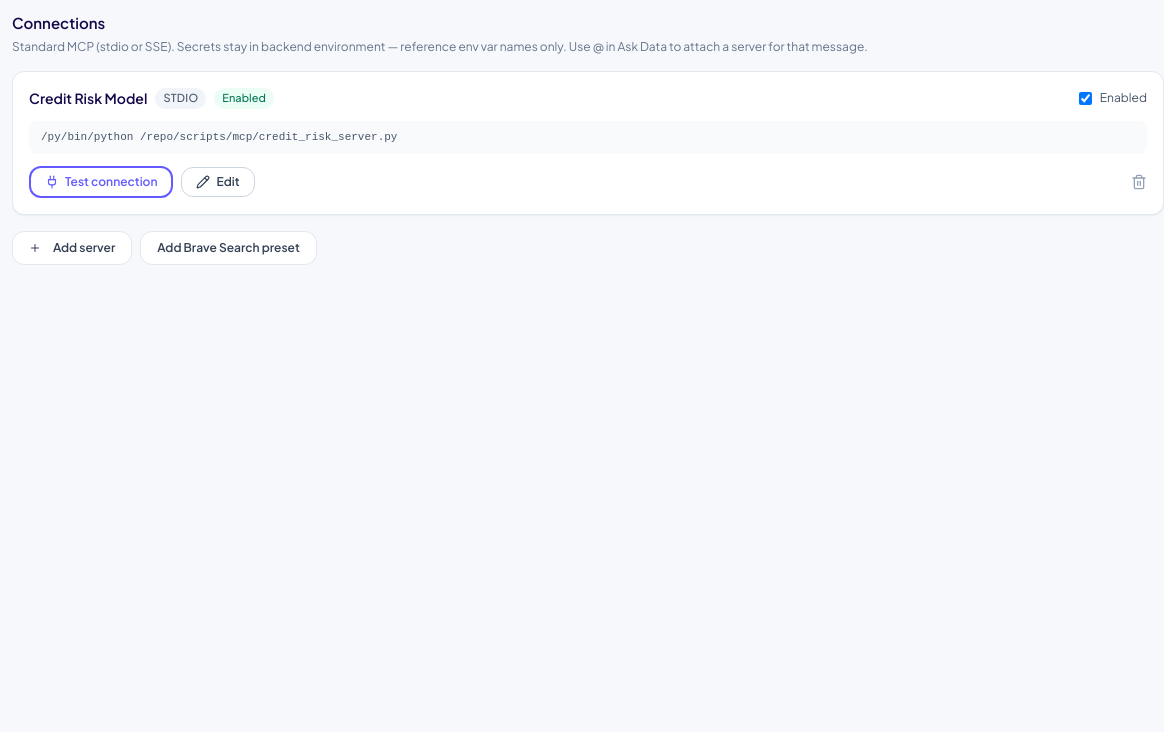
it: AskDataMcpSettingsPanel › edits, saves only that server, and returns to the read-only card
The image size is (1164, 732).
Expected: the element with test id "mcp-server-card" is shown, [12, 71, 1163, 215]
Step 1. Click the button "Edit" → (218,182), box [182, 167, 255, 197]
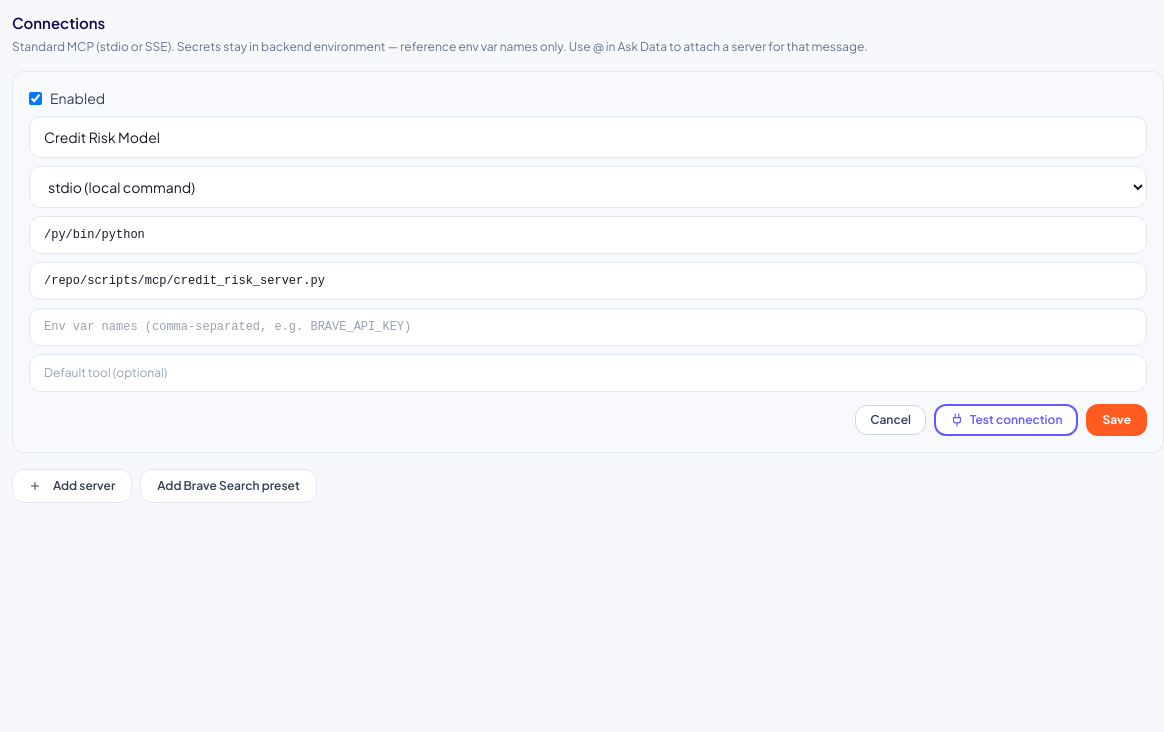
Step 2. Replace the text in the 1st field with placeholder "Display name" with "Risk Model v2" → (588,137), box [29, 116, 1147, 158]
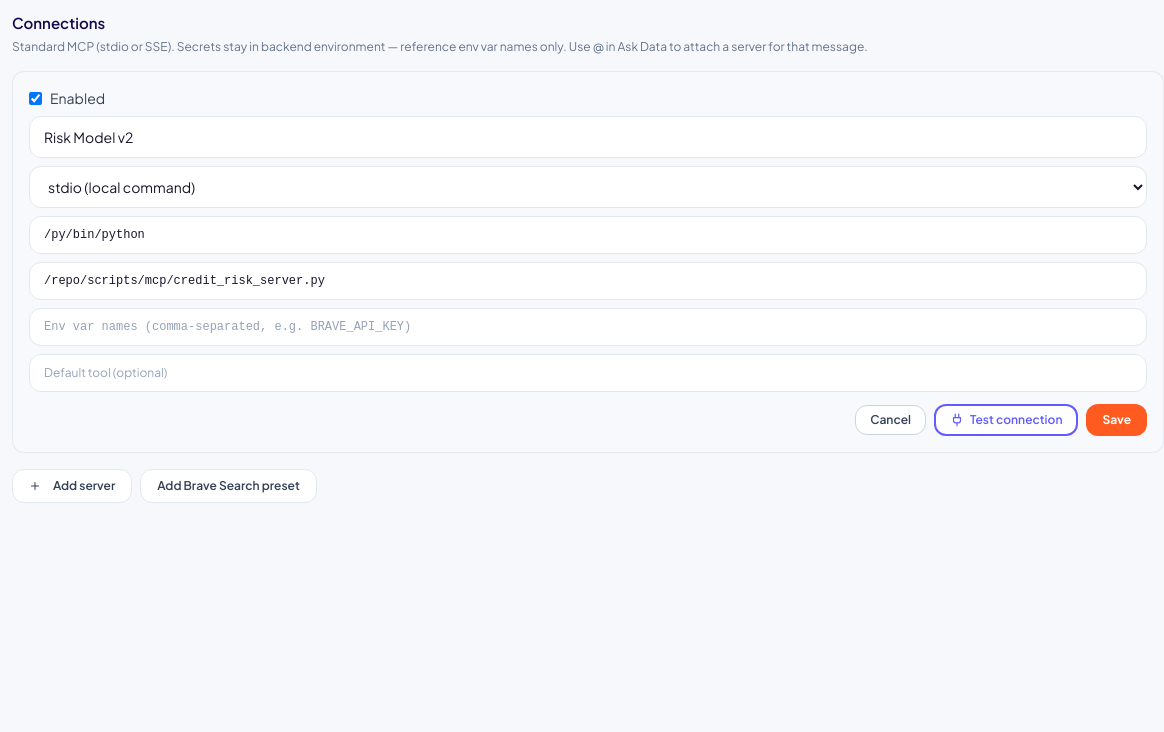
Step 3. Click the button "Save" → (1117,420), box [1086, 404, 1147, 436]
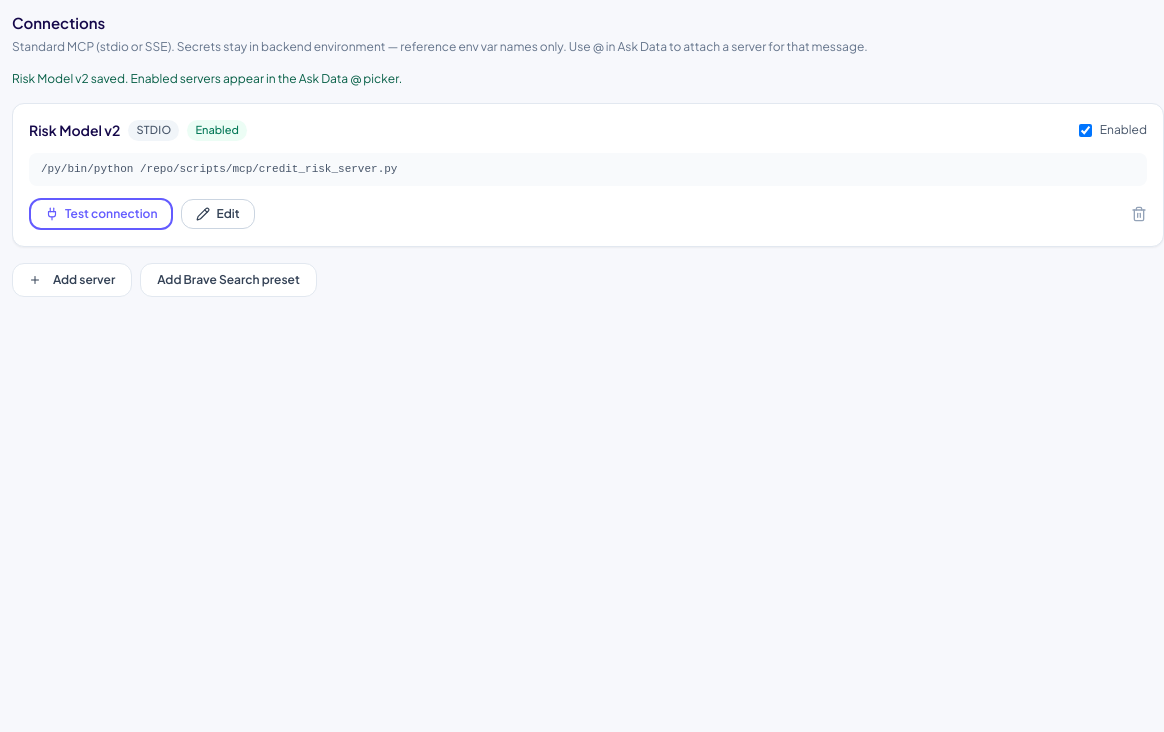
Now the text "Risk Model v2" is shown, box [29, 120, 120, 140]
Now the element with test id "mcp-server-card" is shown, box [12, 103, 1163, 247]
